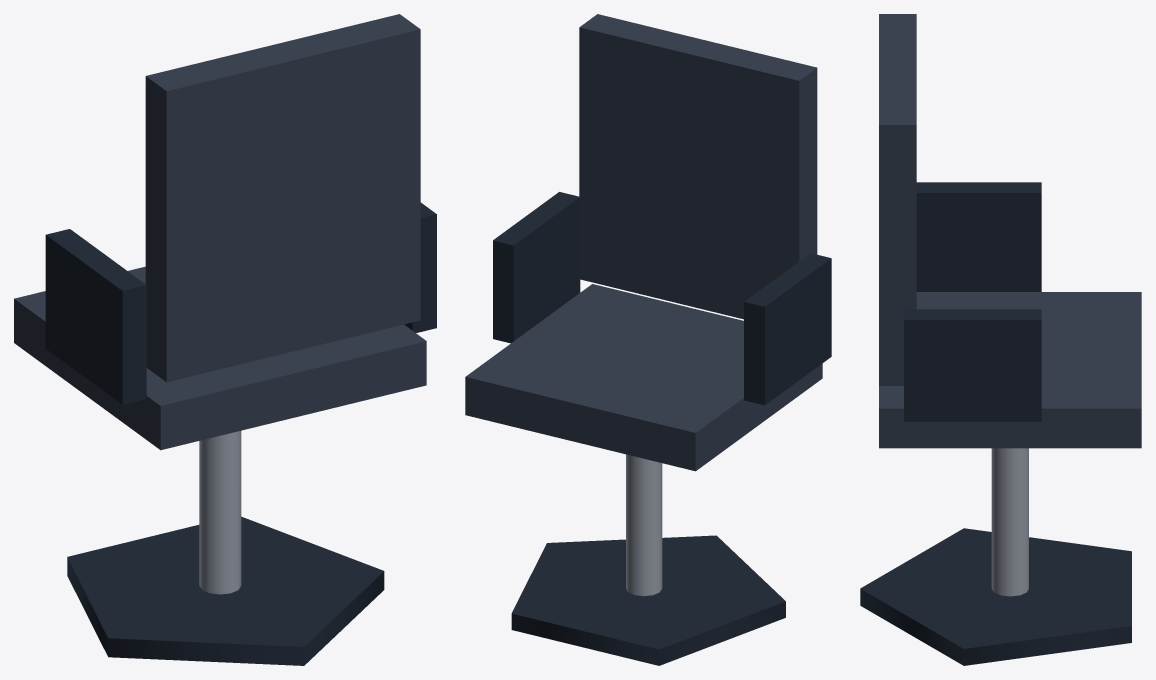
The model's file is ergonomic_chair.glb.
The picture shows the model from 3 angles, left to right: view 1: azimuth 30°, elevation 25°; view 2: azimuth 150°, elevation 25°; view 3: azimuth 270°, elevation 25°; orthographic projection. The views are drawn at different scales.
Parts seen in each view (by area): view 1: Backrest, Starbase, SeatCushion, ArmrestLeft, GasPiston, ArmrestRight; view 2: Backrest, SeatCushion, Starbase, ArmrestLeft, ArmrestRight, GasPiston; view 3: Starbase, SeatCushion, ArmrestRight, ArmrestLeft, Backrest, GasPiston.
Boxes of the visible parts, x1,y1,x2,y2 form: Backrest: (145,14,420,382); Starbase: (67,516,384,665); SeatCushion: (14,266,426,450); ArmrestLeft: (45,229,146,404); GasPiston: (199,431,241,594); ArmrestRight: (404,202,436,332); Backrest: (579,14,817,319); SeatCushion: (465,284,822,471); Starbase: (511,535,785,665); ArmrestLeft: (744,253,831,405); ArmrestRight: (493,192,580,343); GasPiston: (626,454,662,596); Starbase: (860,528,1131,665); SeatCushion: (879,292,1141,448); ArmrestRight: (904,309,1041,421); ArmrestLeft: (916,182,1041,291); Backrest: (879,14,916,385); GasPiston: (991,448,1028,596).
Size of the model in its own units: 0.52 by 0.96 by 0.45.
